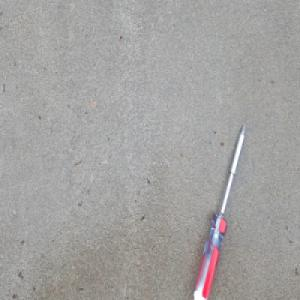Screwdriver: (192, 122, 247, 300)
